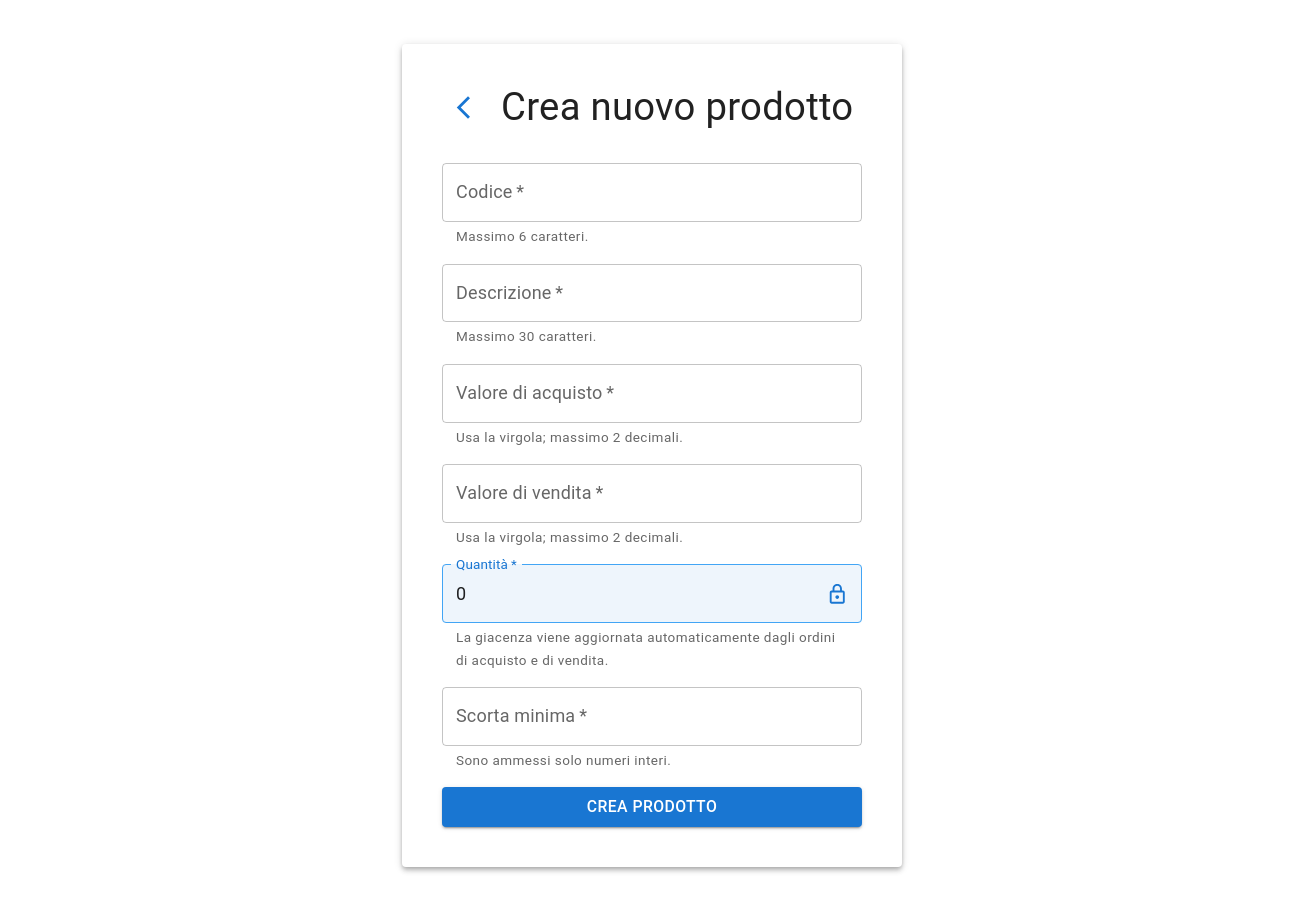
Test: CreareProdotto › invia i dati del nuovo prodotto
The width and height of the screenshot is (1292, 912).
Type "SKU001" into the field labelled "Codice" at (652, 193), box [442,163,862,222]
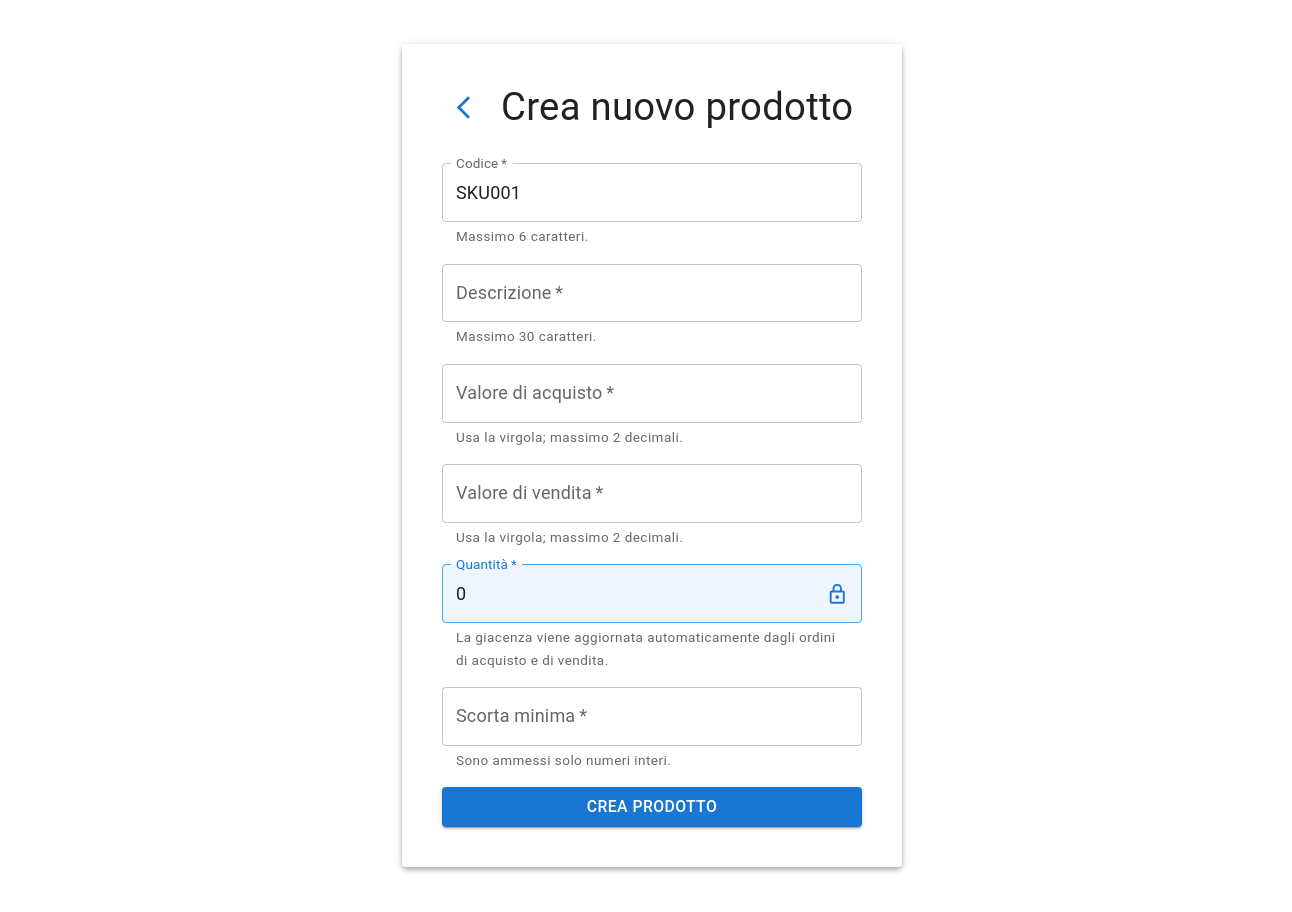
Type "Penna blu" into the field labelled "Descrizione" at (652, 293), box [442,264,862,322]
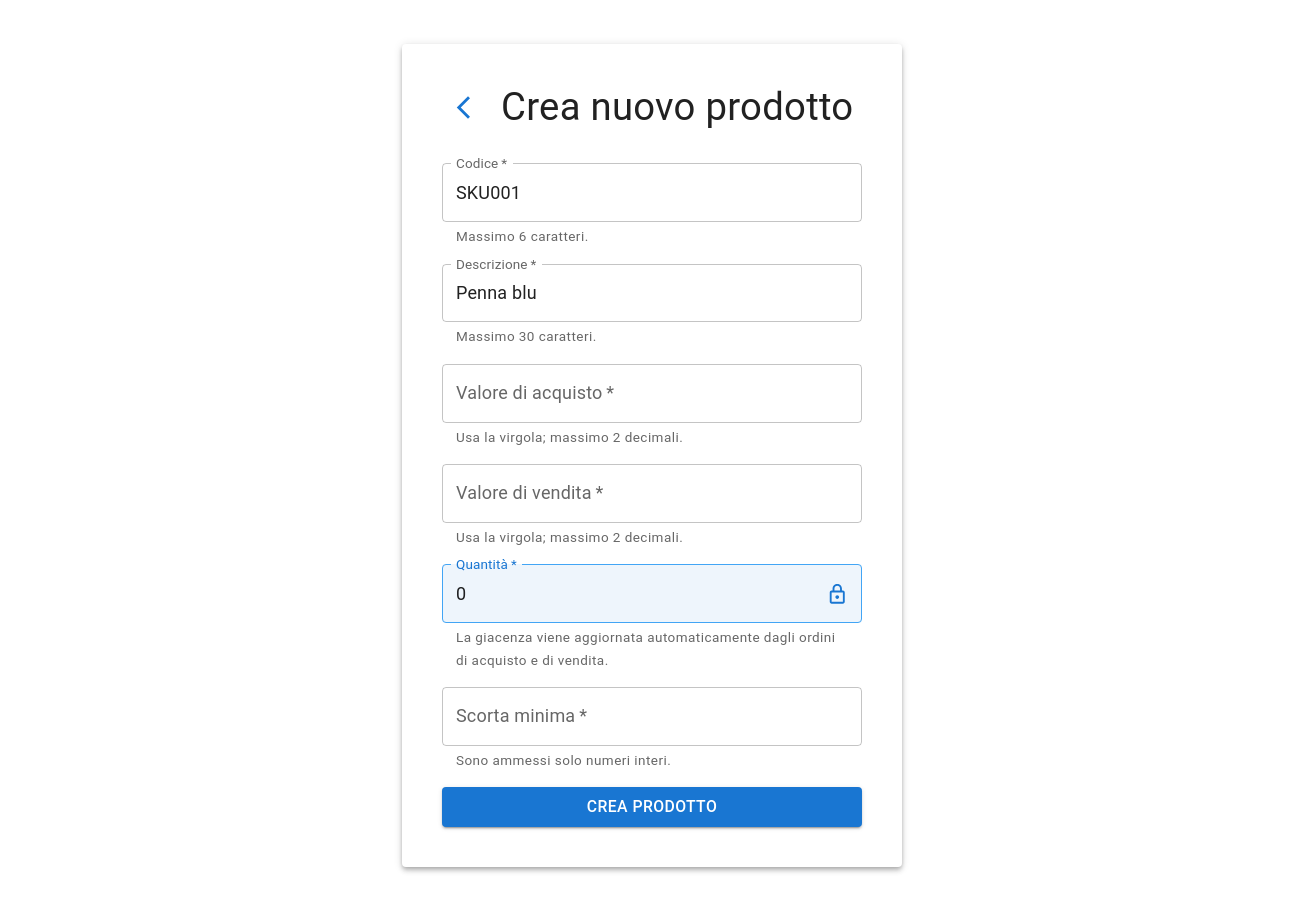
Type "1,50" into the field labelled "Valore di acquisto" at (652, 393), box [442,364,862,423]
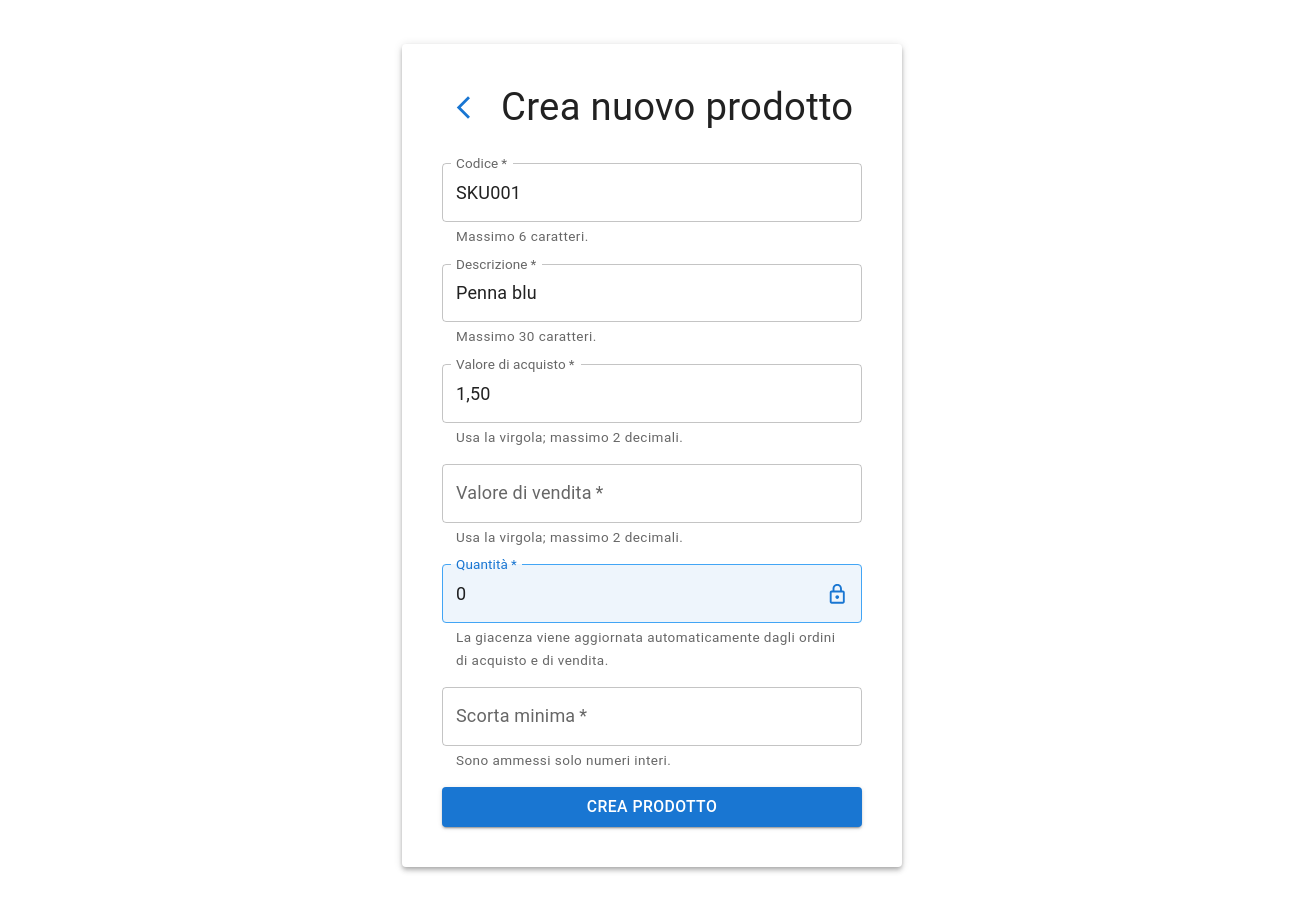
Type "3,00" into the field labelled "Valore di vendita" at (652, 494), box [442,464,862,523]
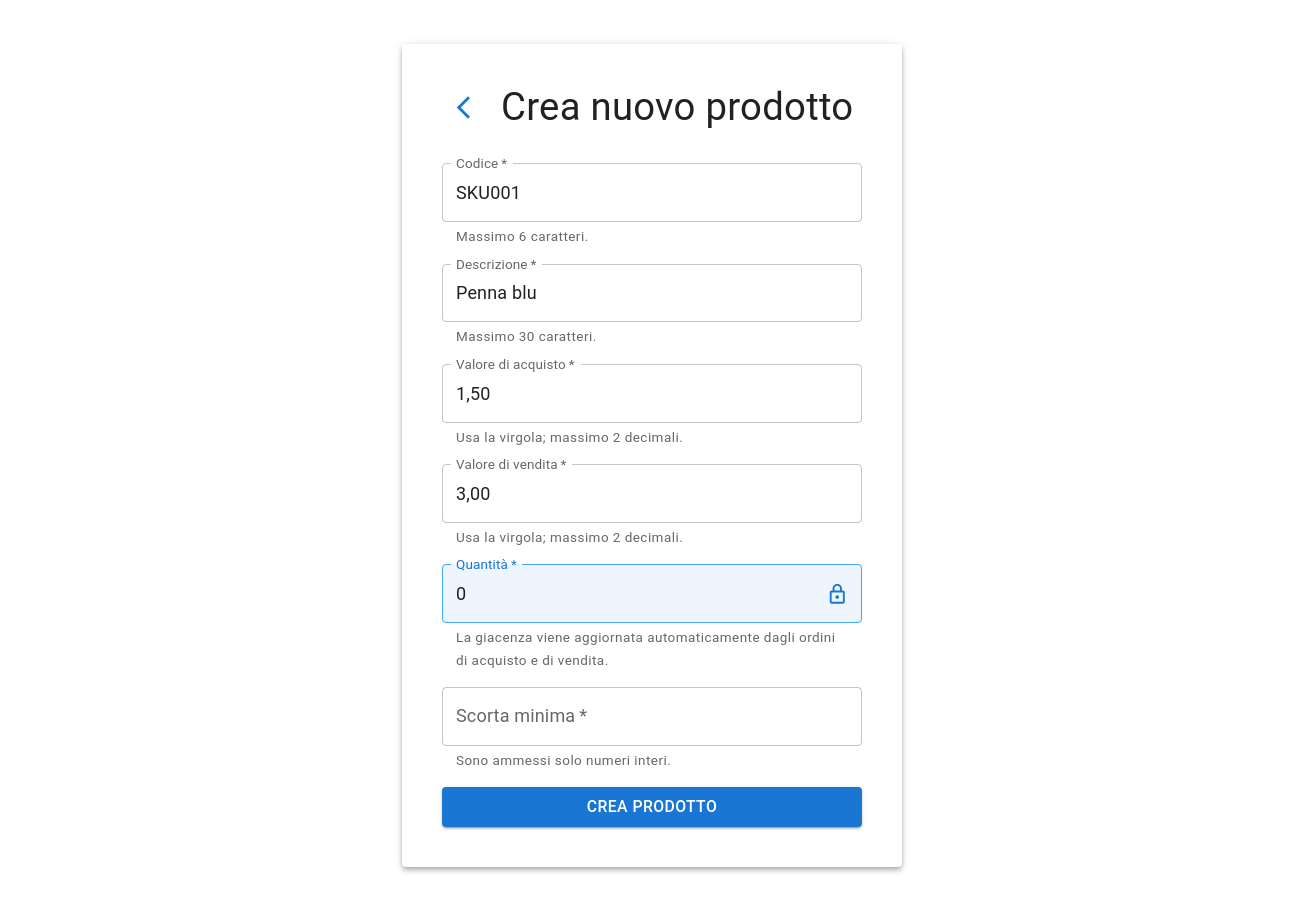
expect the field labelled "Quantità" holds "0": met, box [442,564,818,623]
expect the text "La giacenza viene aggiornata automaticamente dagli ordini di acquisto e di vendita." is shown: met, box [456,629,836,668]
Type "5" into the field labelled "Scorta minima" at (652, 716), box [442,687,862,746]
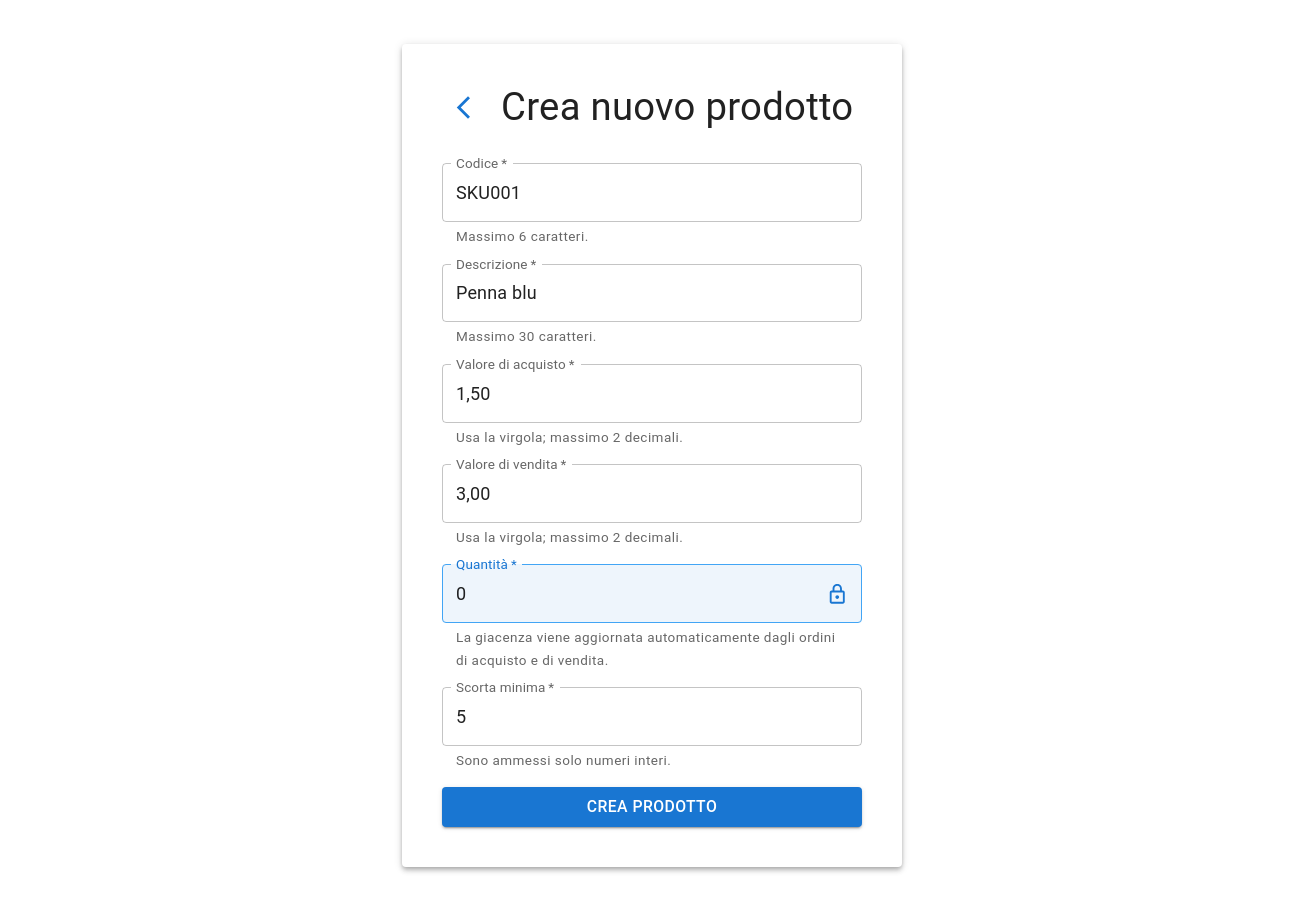
Click the button "Crea prodotto" at (652, 807), box [442,787,862,827]
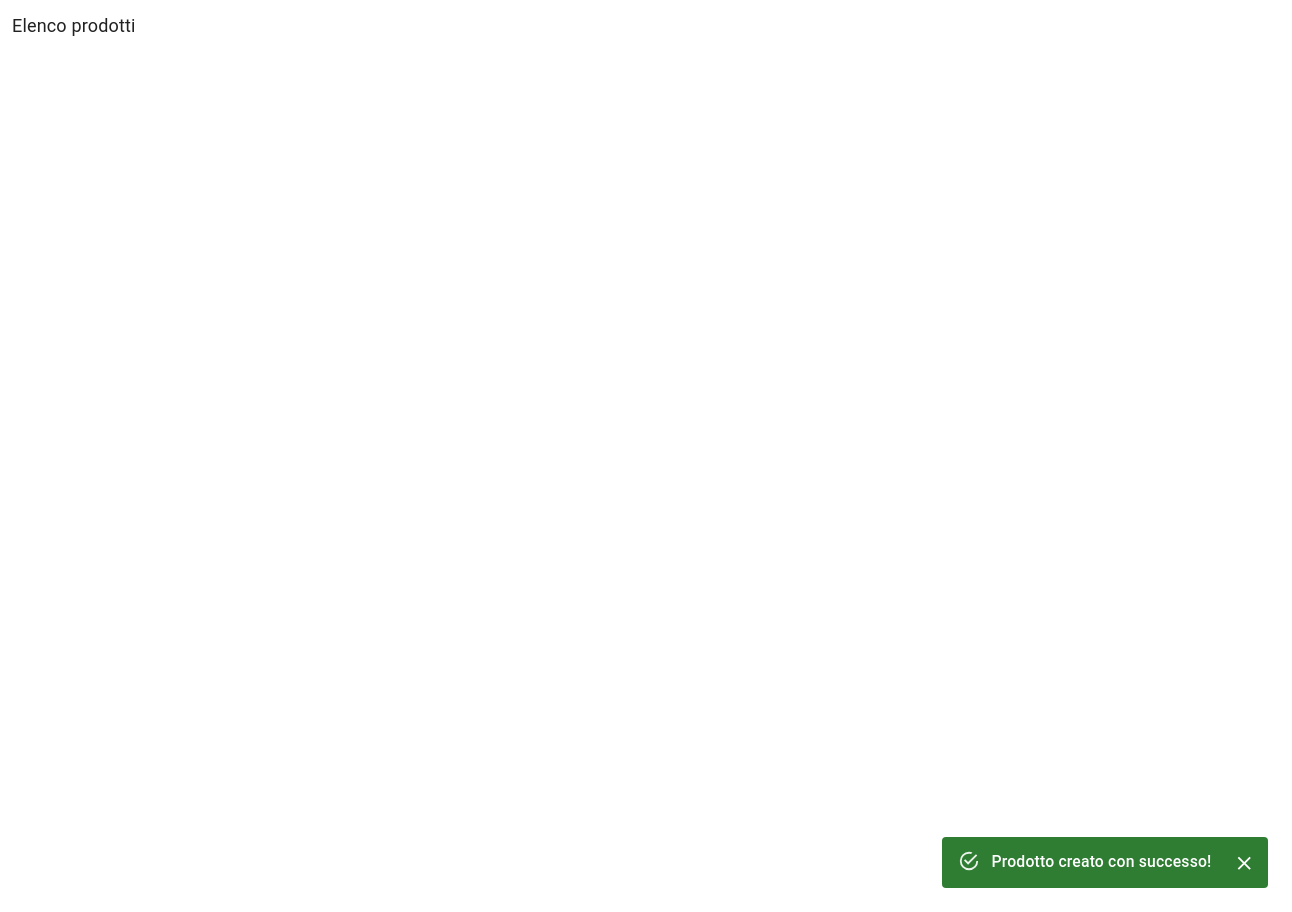
expect the text "Prodotto creato con successo!" is shown: met, box [992,852,1212,872]
expect the text "Elenco prodotti" is shown: met, box [12,15,136,36]
